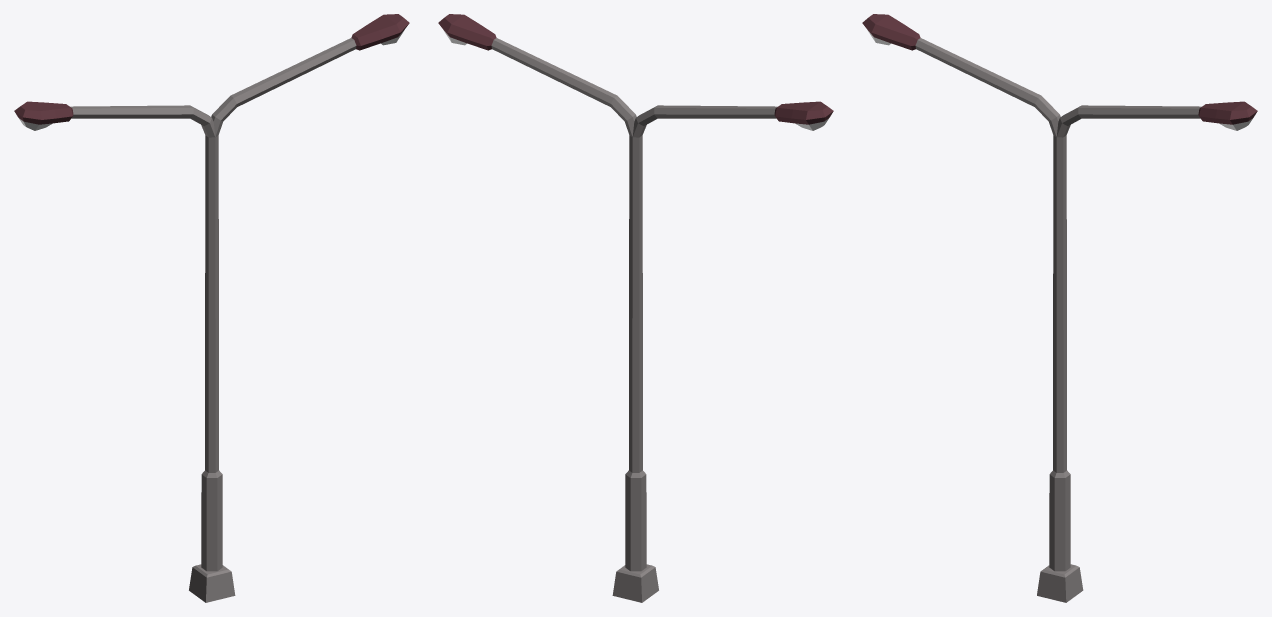
File: lamp-road-double.fbx
3 views of the same model, side by side, from view 1: azimuth 30°, elevation 25°; view 2: azimuth 150°, elevation 25°; view 3: azimuth 330°, elevation 25° (orthographic).
Parts seen in each view (by area): view 1: lamp-road-double; view 2: lamp-road-double; view 3: lamp-road-double.
Part boxes in pixels (<box>): lamp-road-double: <box>14,14,409,602</box>; lamp-road-double: <box>438,14,833,602</box>; lamp-road-double: <box>862,14,1257,602</box>.
Size of the model in its own units: 7.21 by 9.46 by 0.5996.
